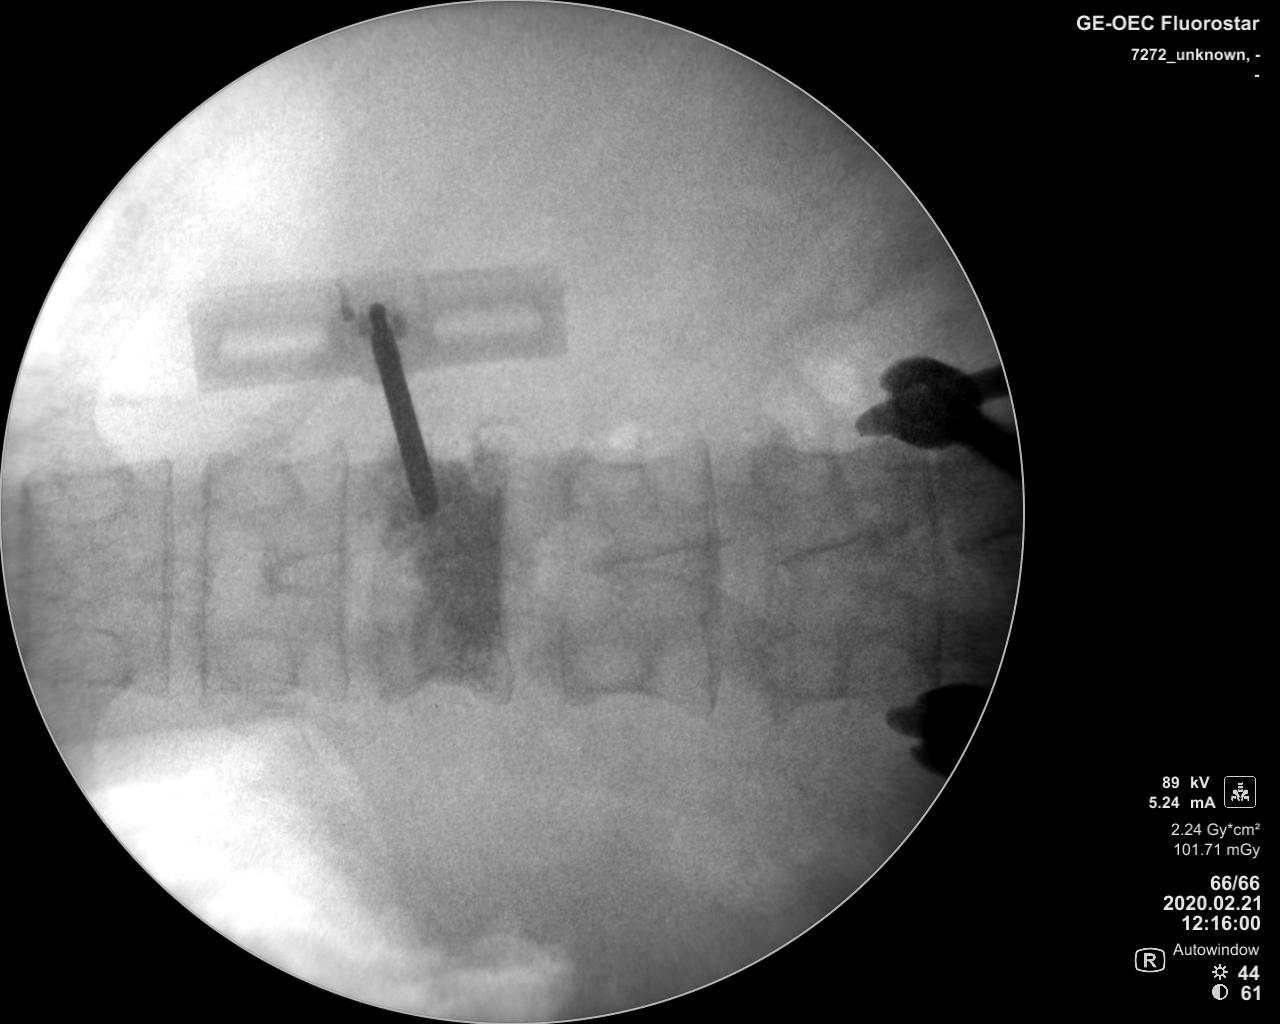eyes: (26, 458, 137, 529), (762, 629, 850, 713), (207, 451, 308, 523), (30, 624, 141, 686), (211, 628, 303, 702), (562, 441, 651, 515), (760, 429, 850, 502), (551, 636, 650, 699)
line: (903, 437, 955, 683), (691, 422, 729, 717), (487, 429, 522, 728), (192, 432, 226, 726), (326, 433, 358, 715), (150, 439, 178, 713)
nose: (583, 539, 739, 591), (770, 533, 902, 589), (255, 543, 352, 599), (119, 550, 213, 606), (4, 555, 84, 602)
